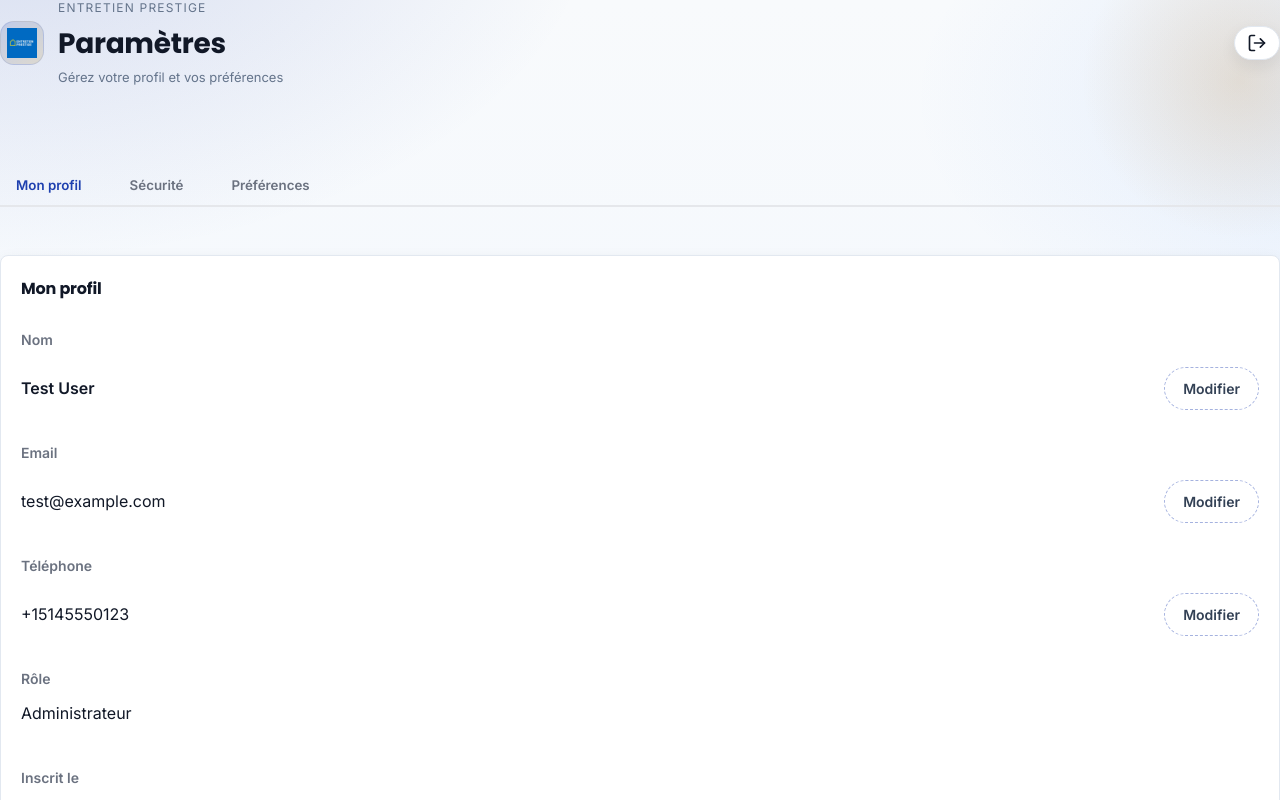
Test: Phase 1: Settings Page Rebuild › should allow editing name via modal
Expected: the text "Test User" is shown, [21,378,95,398]
# Click edit button for name
Click the button "Modifier" in the row of "Test User": (1212, 388) [1164,366,1259,410]
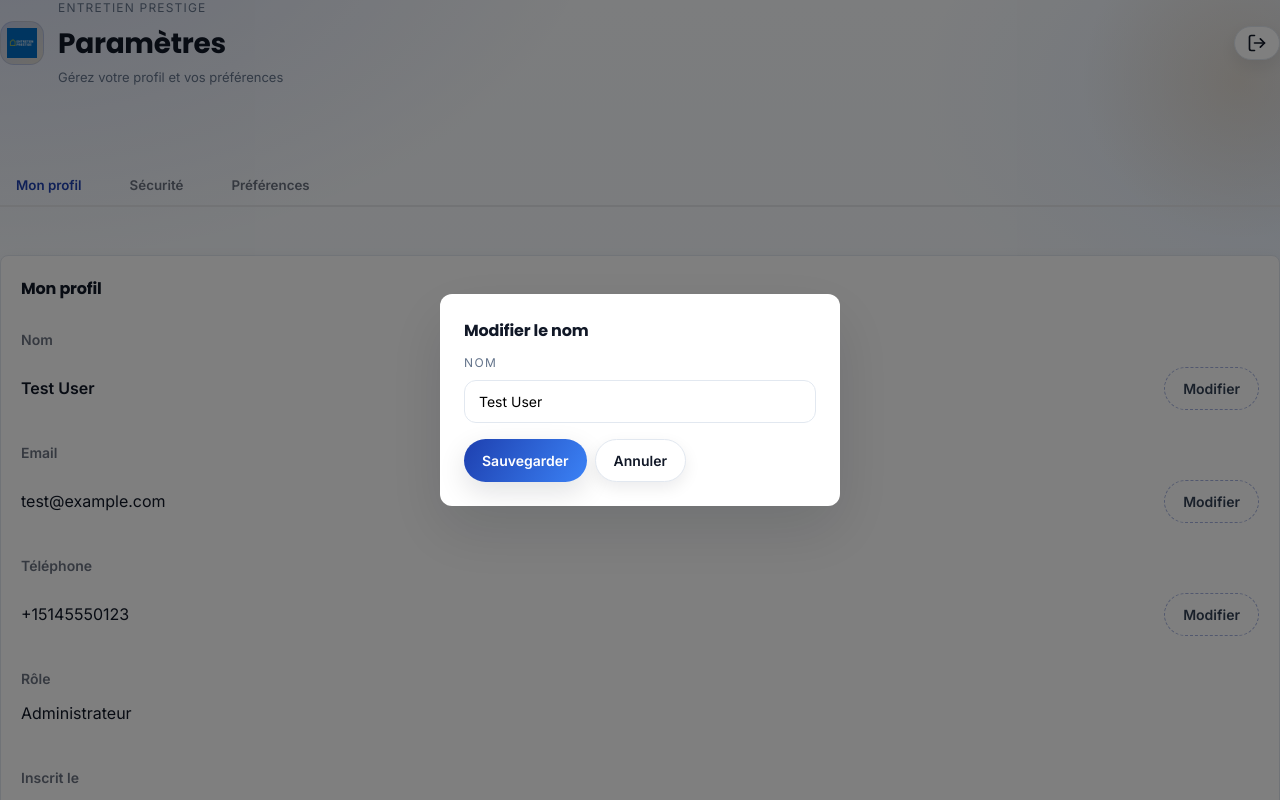
Result: the heading "Modifier le nom" is shown at [464,319,588,342]
